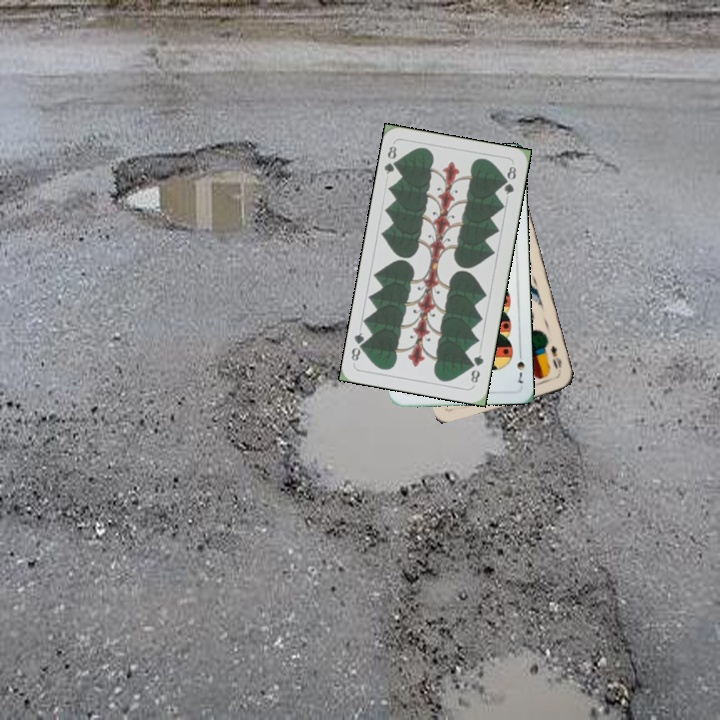EO: (547, 342, 564, 372)
G8: (380, 142, 402, 177), (467, 351, 486, 387)
S7: (513, 347, 527, 386)
